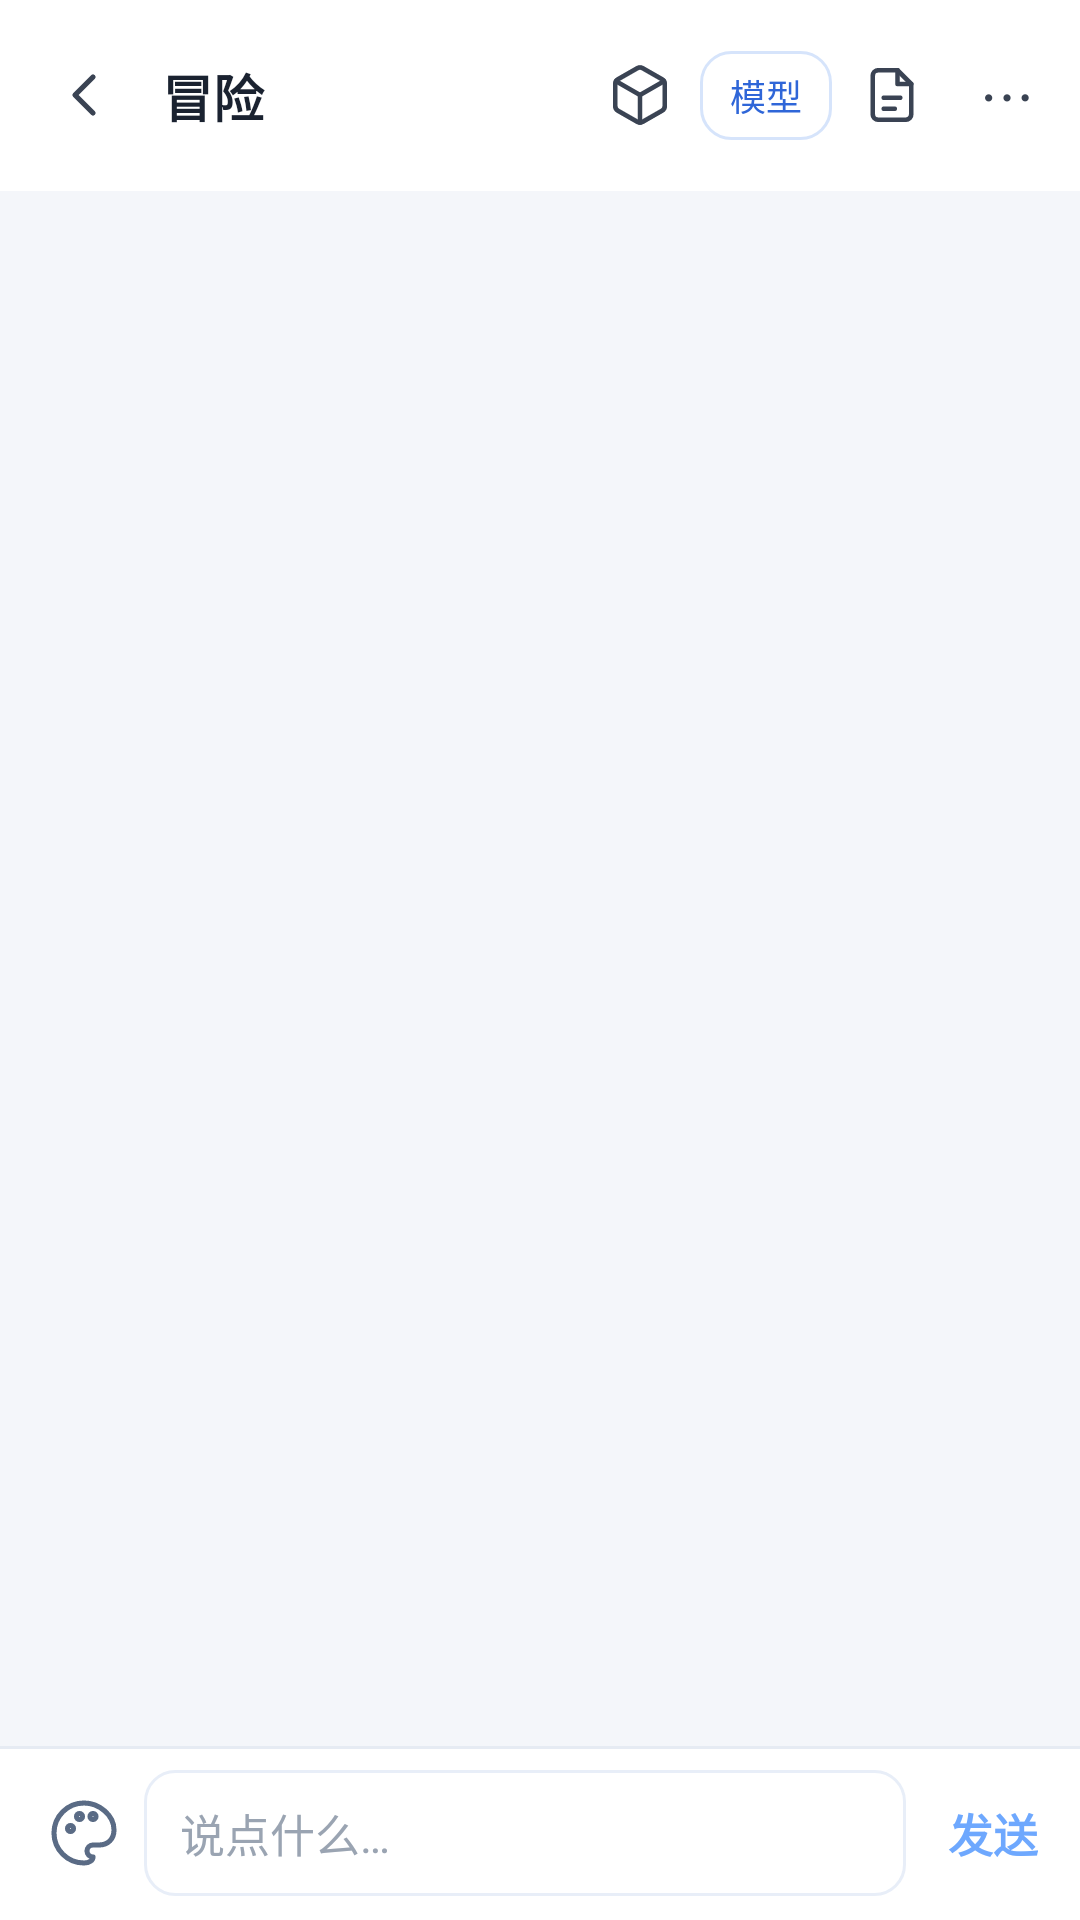

Locate icon controls on the screen. Image size 1080×1920, boxes as (x1, y1, x2, y2).
前情提要（自动摘要）: (870, 68, 914, 122)
按对话生图配置快速出图: (51, 1800, 117, 1866)
本对话资产: (613, 65, 667, 125)
返回: (72, 74, 96, 116)
